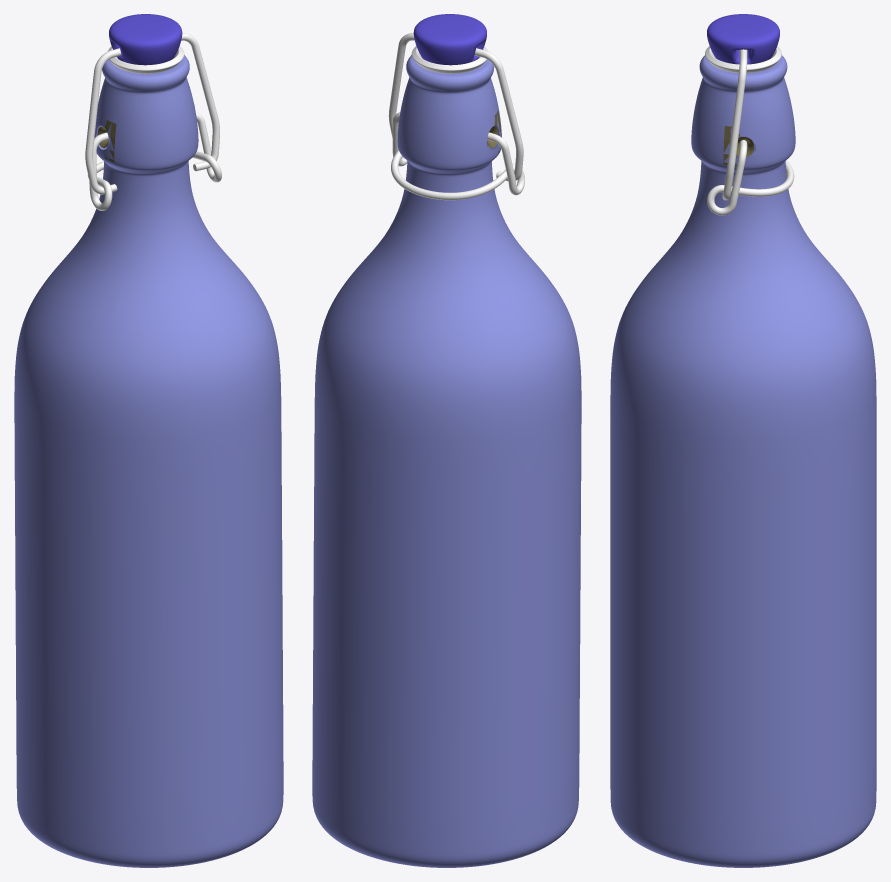
File: botella.glb
3 renders of one model, left to right at view 1: azimuth 30°, elevation 25°; view 2: azimuth 150°, elevation 25°; view 3: azimuth 270°, elevation 25°, orthographic.
Visible parts, largest first — view 1: 10 Bottle .001; view 2: 10 Bottle .001; view 3: 10 Bottle .001.
Part boxes in pixels (bbox=[...]): 10 Bottle .001: bbox=[14, 14, 283, 867]; 10 Bottle .001: bbox=[312, 14, 581, 867]; 10 Bottle .001: bbox=[610, 14, 876, 867].
Size of the model in its own units: 0.7856 by 2.55 by 0.7784.
